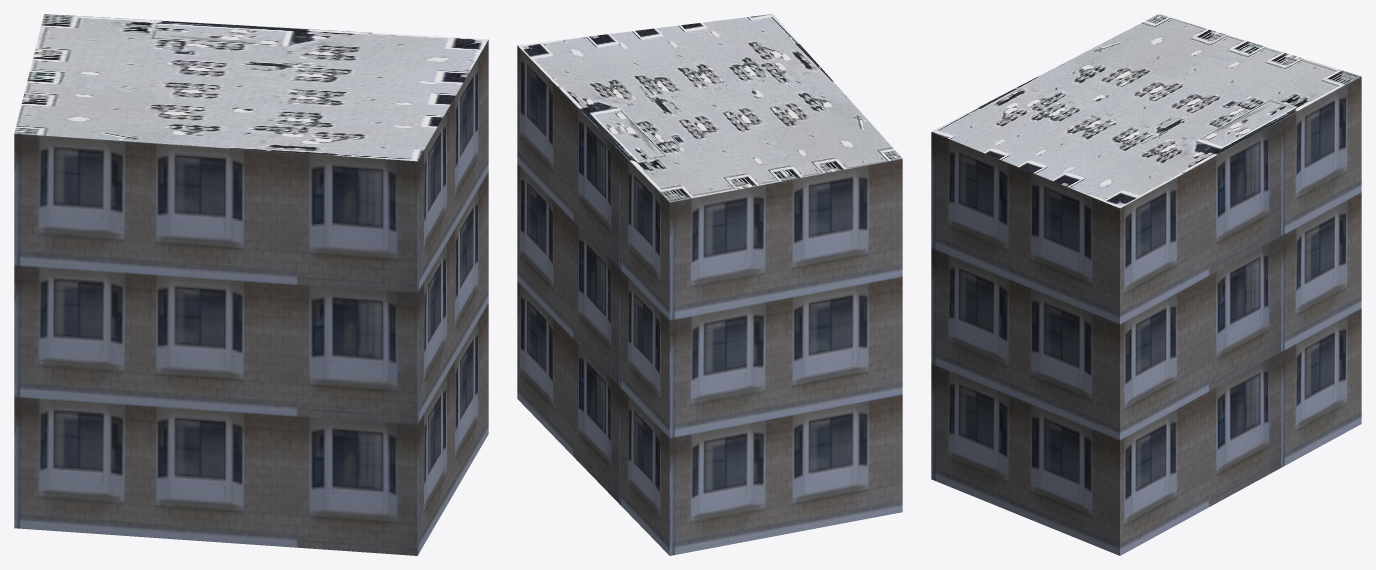
Rendered from ResTex__3991.fbx.
The picture shows the model from 3 angles, left to right: view 1: azimuth 30°, elevation 25°; view 2: azimuth 150°, elevation 25°; view 3: azimuth 270°, elevation 25°; orthographic projection. The views are drawn at different scales.
Visible parts, largest first — view 1: CityEngineMaterial_3_m, CityEngineMaterial_4_m; view 2: CityEngineMaterial_3_m, CityEngineMaterial_4_m; view 3: CityEngineMaterial_3_m, CityEngineMaterial_4_m.
Boxes of the visible parts, bbox=[...] form: CityEngineMaterial_3_m: bbox=[14, 40, 488, 555]; CityEngineMaterial_4_m: bbox=[14, 14, 488, 161]; CityEngineMaterial_3_m: bbox=[517, 45, 902, 555]; CityEngineMaterial_4_m: bbox=[518, 14, 902, 202]; CityEngineMaterial_3_m: bbox=[931, 76, 1361, 555]; CityEngineMaterial_4_m: bbox=[931, 14, 1361, 208].
Bounding box in the file's own units: 10.79 × 9 × 10.1.
Materials: 2 (2 with a texture image).
